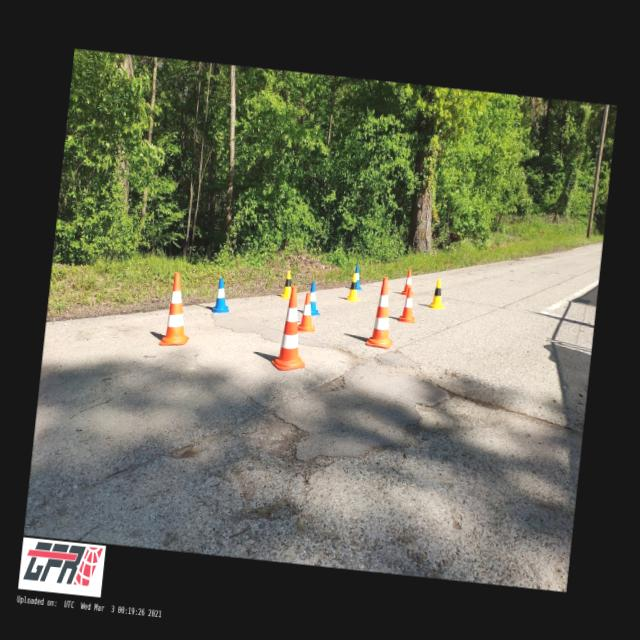blue_cone: (212, 277, 232, 313), (308, 281, 322, 316), (353, 265, 363, 290)
large_orange_cone: (270, 284, 313, 372), (159, 271, 195, 347), (365, 275, 398, 348)
orange_cone: (298, 291, 318, 332), (398, 286, 418, 322), (401, 269, 415, 296)
yellow_cone: (429, 278, 446, 308), (346, 272, 361, 302), (280, 269, 292, 299)
